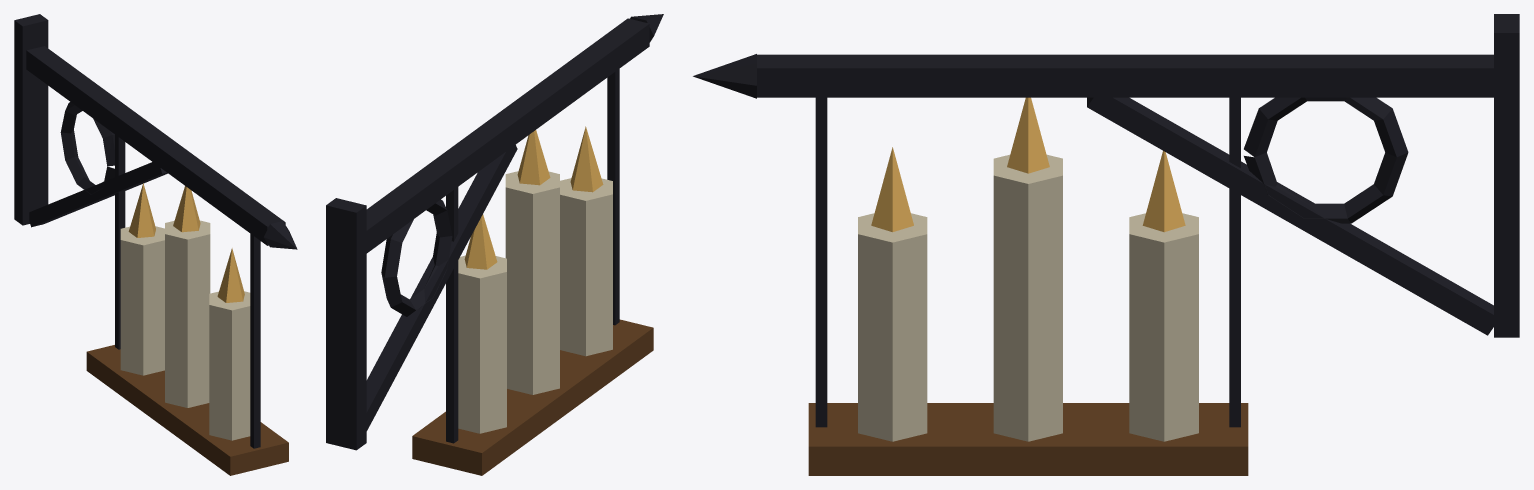
The model's file is shop-sign-chandler.glb.
The picture shows the model from 3 angles, left to right: view 1: azimuth 30°, elevation 25°; view 2: azimuth 150°, elevation 25°; view 3: azimuth 270°, elevation 25°; orthographic projection. The views are drawn at different scales.
Parts seen in each view (by area): view 1: shop-sign-chandler; view 2: shop-sign-chandler; view 3: shop-sign-chandler.
Part boxes in pixels (x1,y1,x2,y2): shop-sign-chandler: (14,14,297,475); shop-sign-chandler: (326,14,663,475); shop-sign-chandler: (693,14,1519,475).
Bounding box in the file's own units: 0.16 × 0.735 × 1.28.
